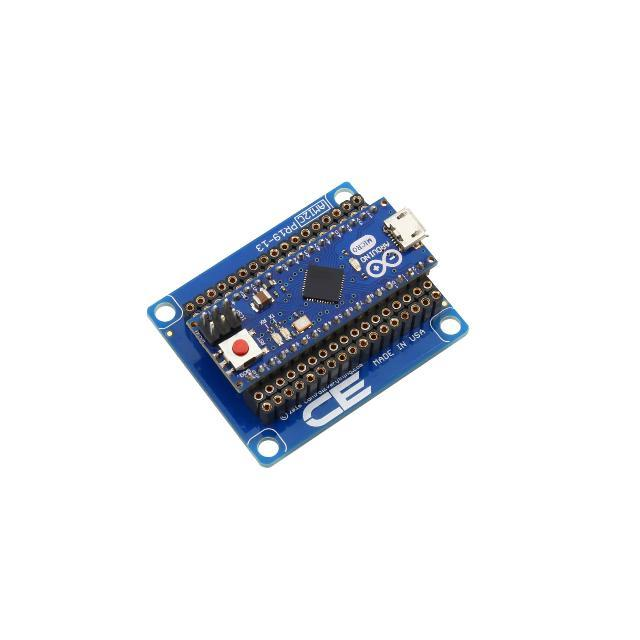Arduino-Micro: (148, 183, 469, 467)
